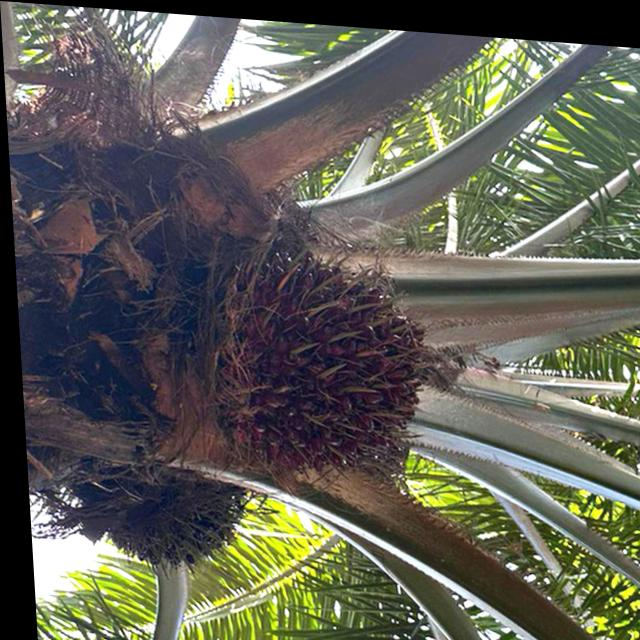ripe: (196, 229, 444, 489)
